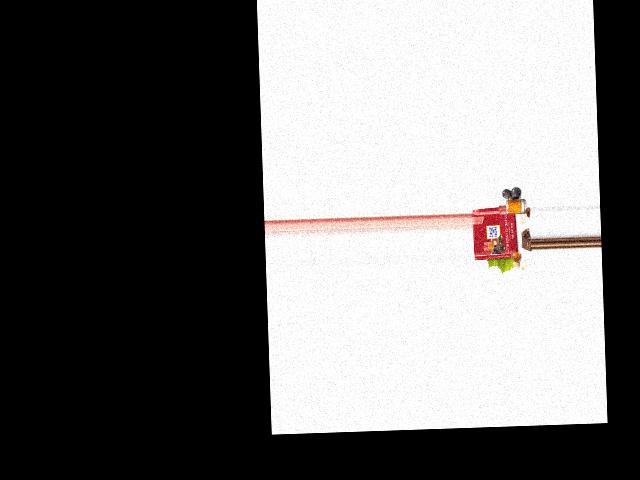chocolate: (472, 207, 518, 261)
